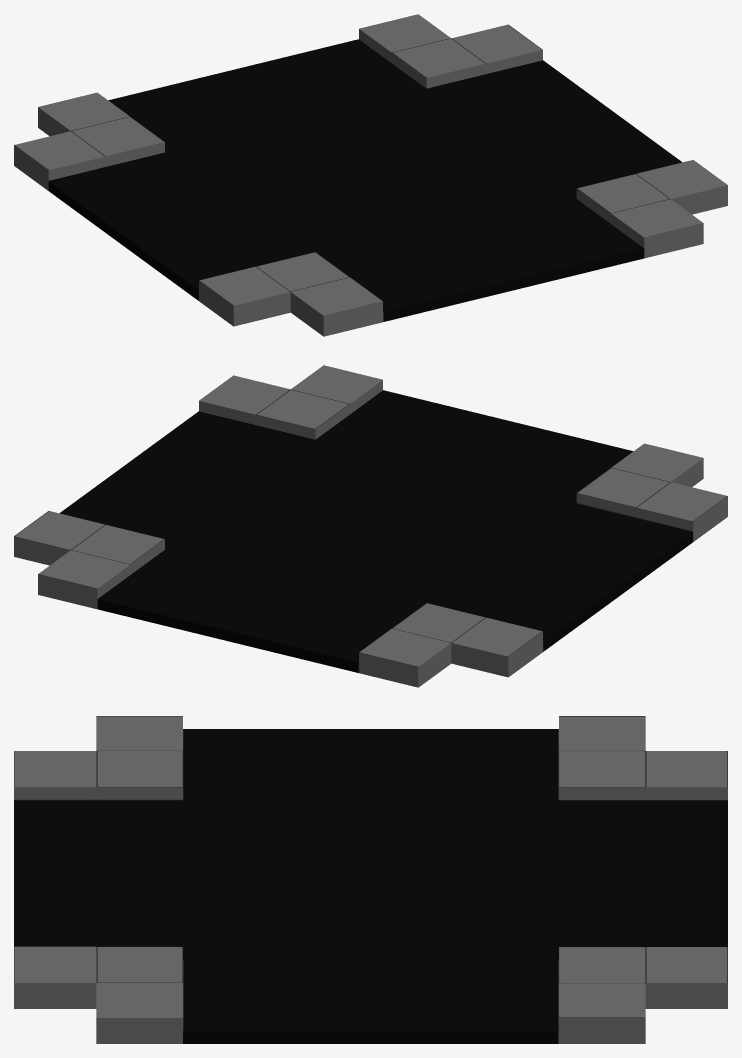
File: Modular Road 2 Intersection.fbx
The picture shows the model from 3 angles, top to bottom: view 1: azimuth 30°, elevation 25°; view 2: azimuth 150°, elevation 25°; view 3: azimuth 270°, elevation 25°; orthographic projection. The views are drawn at different scales.
Visible parts, largest first — view 1: Modular Road 2 way Intersection; view 2: Modular Road 2 way Intersection; view 3: Modular Road 2 way Intersection.
Part boxes in pixels (x1,y1,x2,y2): Modular Road 2 way Intersection: [14, 14, 727, 336]; Modular Road 2 way Intersection: [14, 365, 727, 687]; Modular Road 2 way Intersection: [14, 716, 727, 1043].
Bounding box in the file's own units: 26 × 26 × 1.04.
2 materials, 2 textured.
